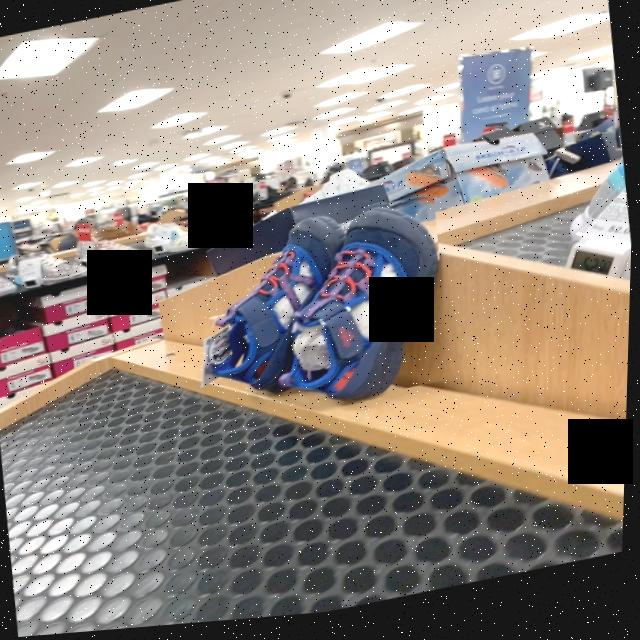shoe: (293, 210, 442, 404)
